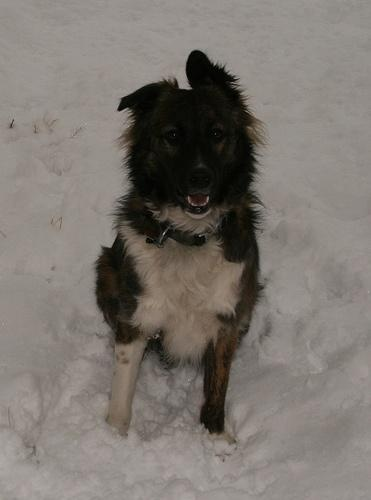dog: (91, 48, 277, 448)
